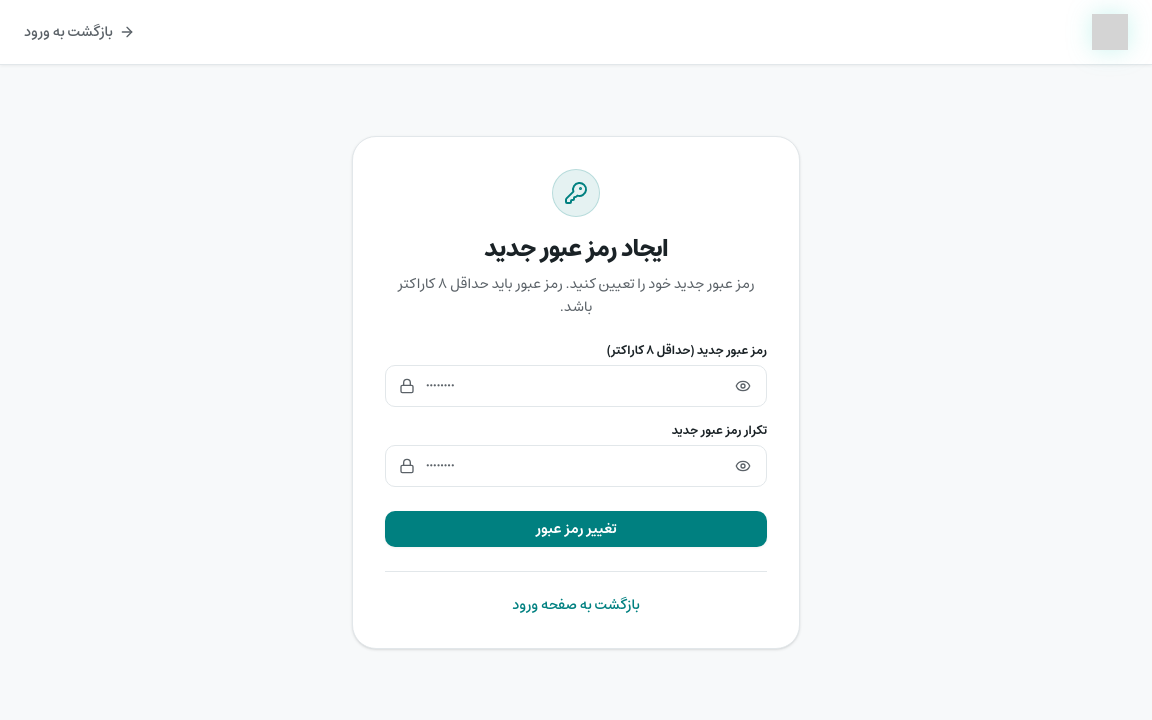
Test: Auth UI - Forgot Password & Reset Password Flow › ResetPasswordPage › submits valid reset-password request and shows success screen
The image size is (1152, 720).
Type "password-12345" into the password field with id "new-password" at coordinates (576, 386), box 385,365 -> 767,407
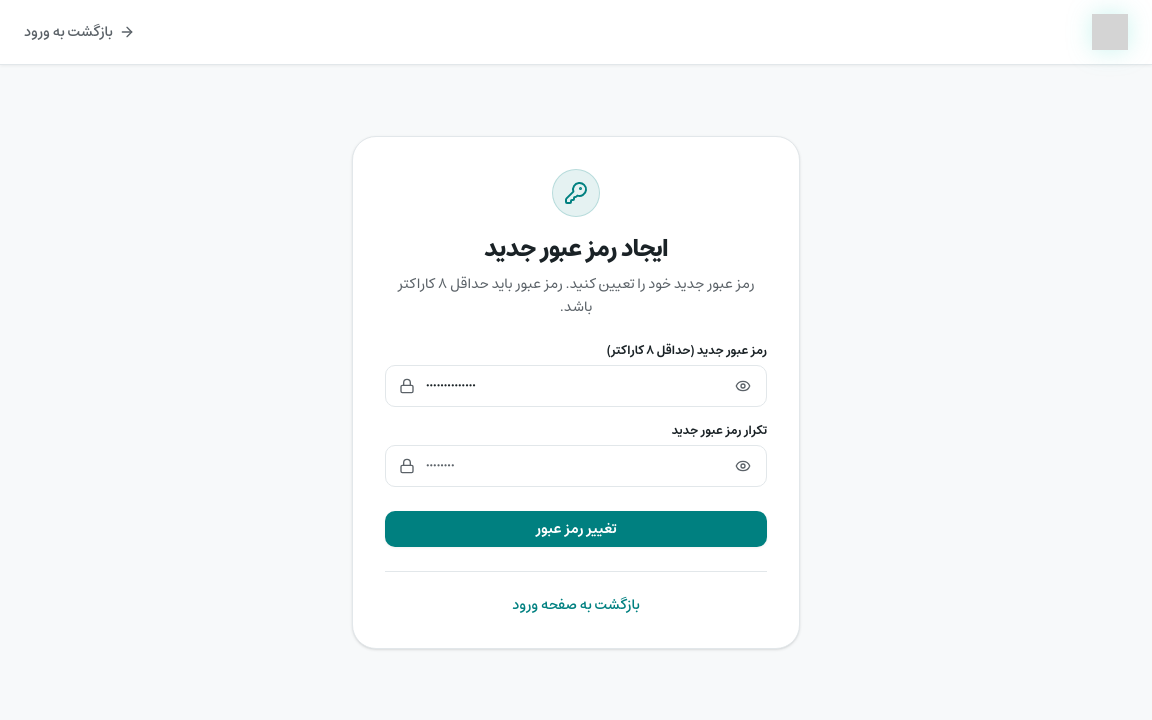
Type "password-12345" into the password field with id "confirm-new-password" at coordinates (576, 466), box 385,445 -> 767,487
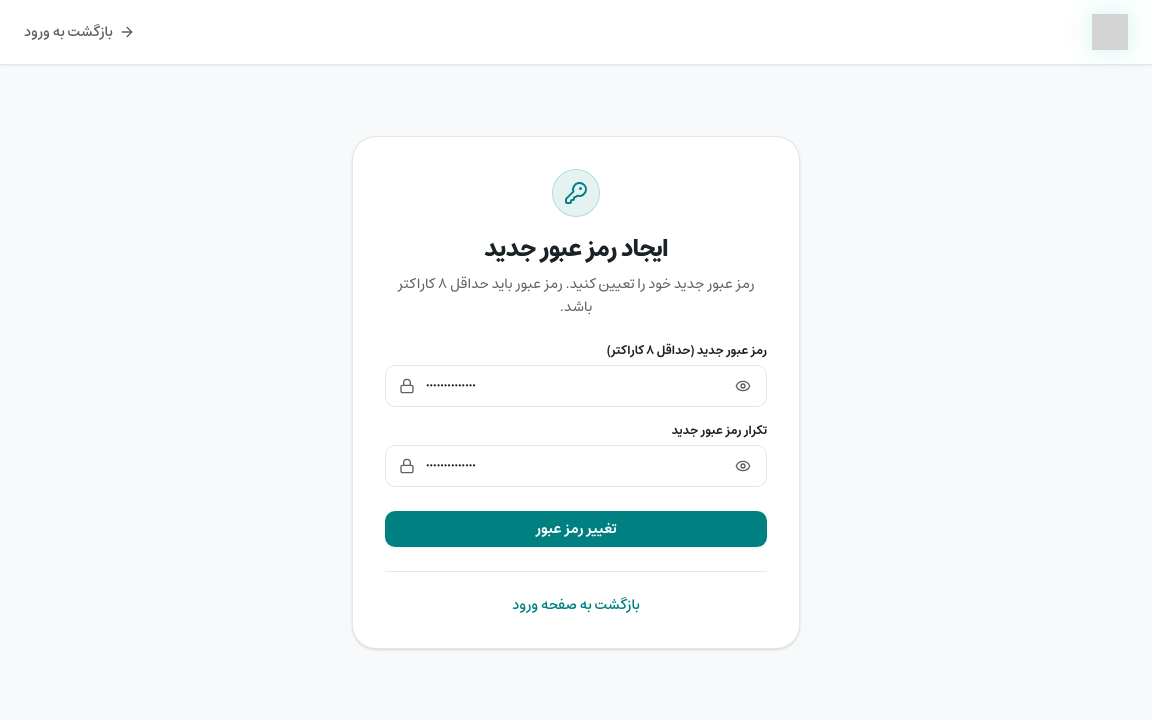
Submit the form, box 385,343 -> 767,547
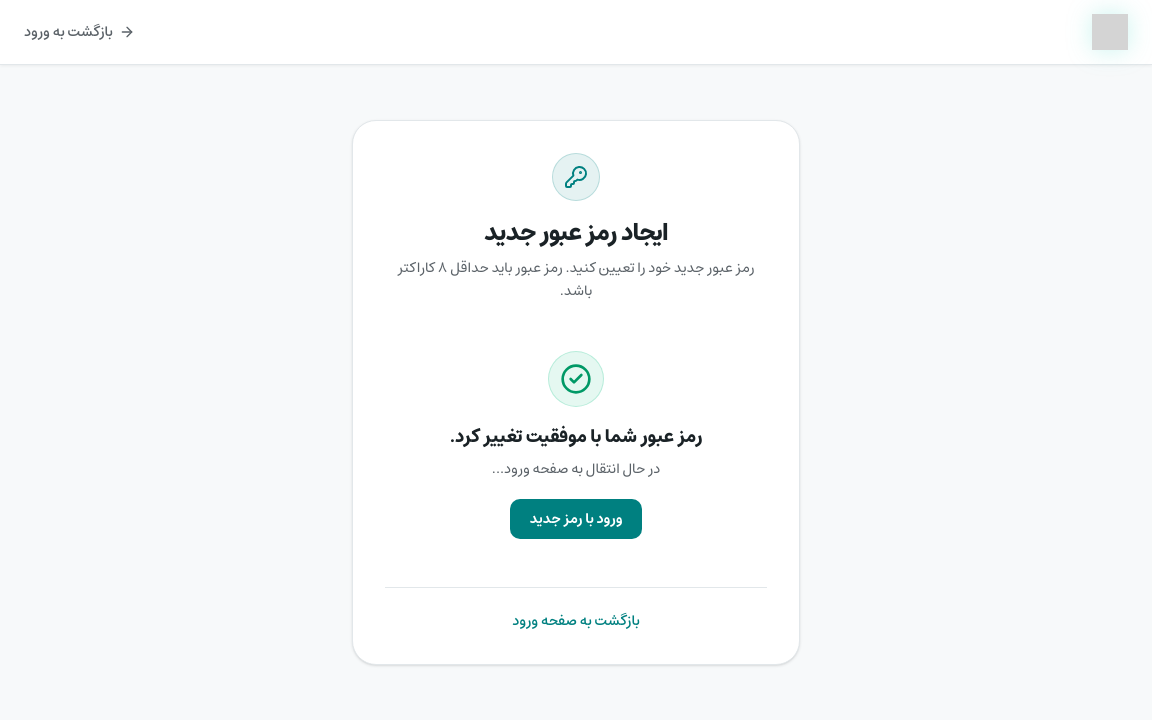
Now the heading "رمز عبور شما با موفقیت تغییر کرد." is shown, box 450,421 -> 702,453
Now the link "ورود با رمز جدید" is shown, box 510,499 -> 642,539
